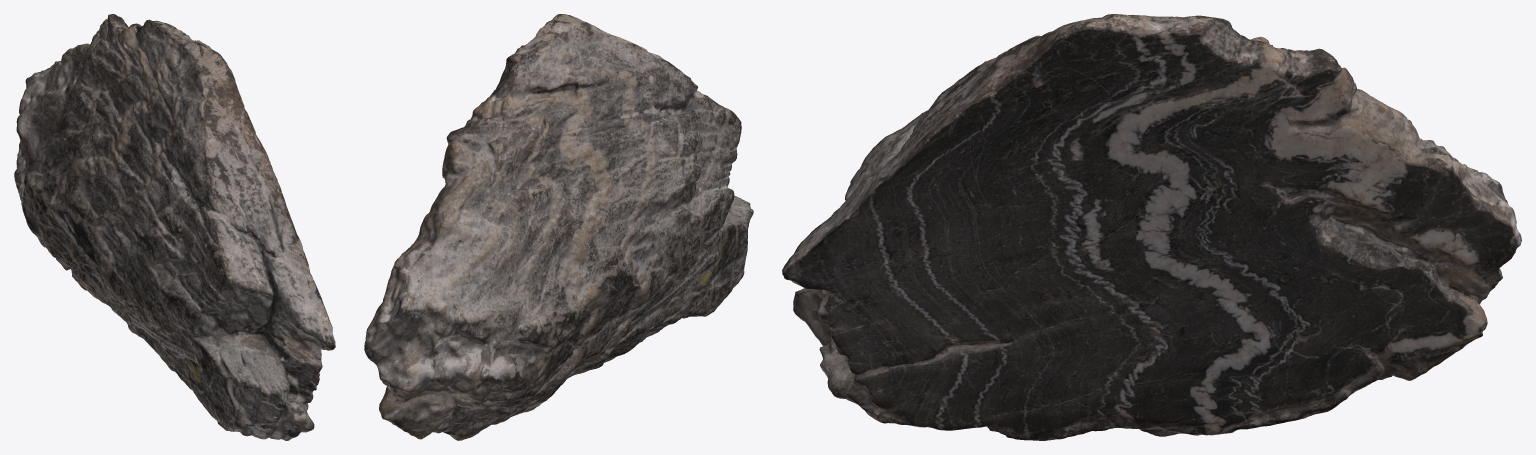
3 renders of one model, left to right at view 1: azimuth 30°, elevation 25°; view 2: azimuth 150°, elevation 25°; view 3: azimuth 270°, elevation 25°, orthographic. The views are drawn at different scales.
Parts seen in each view (by area): view 1: Metashape to blender; view 2: Metashape to blender; view 3: Metashape to blender.
Part boxes in pixels (box(x1,y1,x2,y2)): Metashape to blender: box(14, 14, 335, 440); Metashape to blender: box(364, 14, 753, 440); Metashape to blender: box(782, 14, 1521, 440).
Size of the model in its own units: 0.0388 by 0.1212 by 0.192.
1 material, 1 textured.
